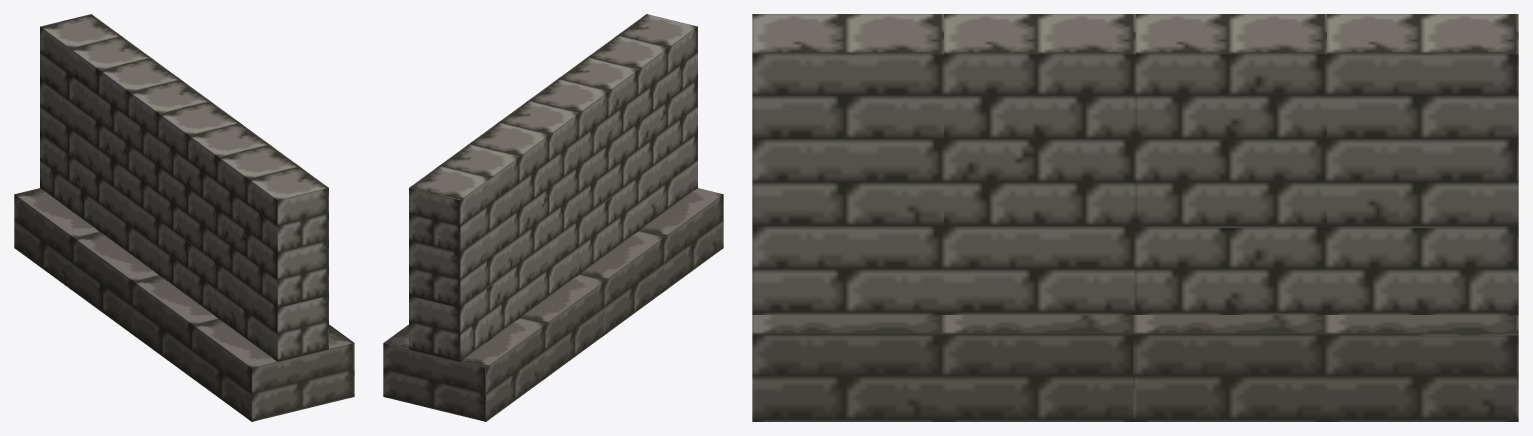
Rendered from Wall_Bottom_x4.fbx.
3 views of the same model, side by side, from view 1: azimuth 30°, elevation 25°; view 2: azimuth 150°, elevation 25°; view 3: azimuth 270°, elevation 25° (orthographic). The views are drawn at different scales.
Visible parts, largest first — view 1: Wall_Bottom_x4; view 2: Wall_Bottom_x4; view 3: Wall_Bottom_x4.
Part boxes in pixels (<box>): Wall_Bottom_x4: <box>14,14,354,421</box>; Wall_Bottom_x4: <box>383,14,723,421</box>; Wall_Bottom_x4: <box>752,14,1518,421</box>.
Size of the model in its own units: 200 by 400 by 800.
1 material, 1 textured.
